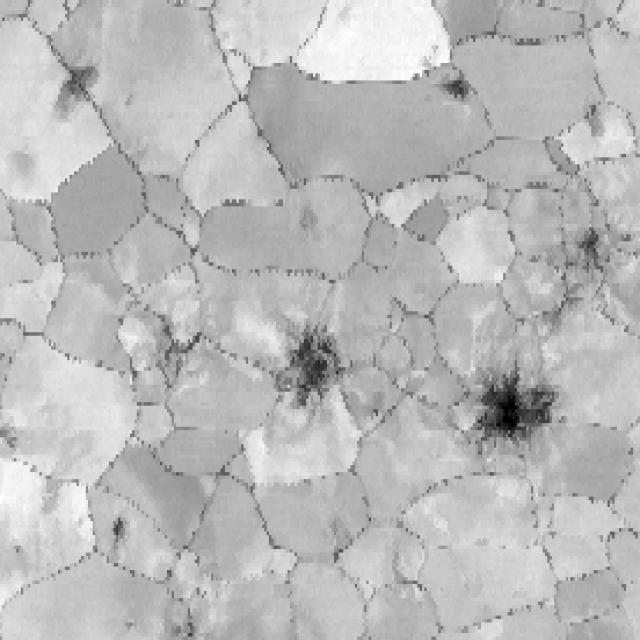good_void: (460, 370, 562, 449), (131, 302, 210, 399), (272, 317, 334, 412), (51, 52, 106, 136), (568, 216, 606, 276), (440, 59, 479, 114), (107, 502, 140, 553), (580, 99, 613, 142), (293, 198, 320, 248)
